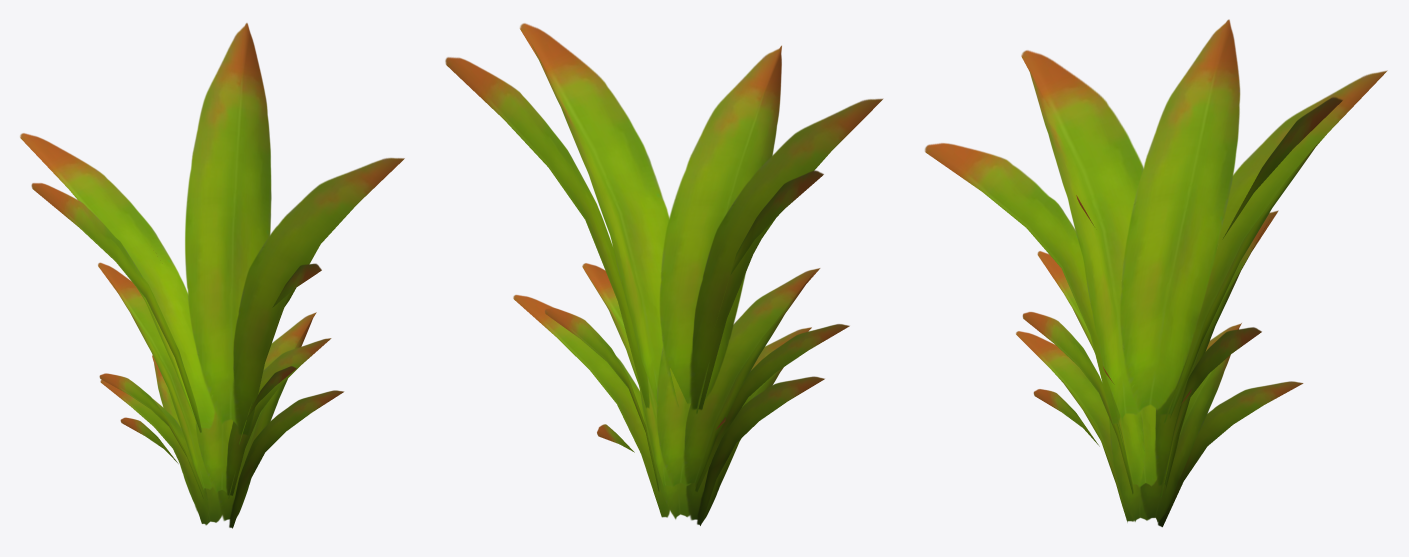
Rendered from plant-big-mbhbp7jrti-transformed.glb.
3 renders of one model, left to right at view 1: azimuth 30°, elevation 25°; view 2: azimuth 150°, elevation 25°; view 3: azimuth 270°, elevation 25°, orthographic. The views are drawn at different scales.
Parts seen in each view (by area): view 1: Plant_1_Big; view 2: Plant_1_Big; view 3: Plant_1_Big.
Part boxes in pixels (left/top/right/bottom): Plant_1_Big: left=20, top=23, right=404, bottom=528; Plant_1_Big: left=445, top=23, right=883, bottom=525; Plant_1_Big: left=924, top=19, right=1387, bottom=527.
Size of the model in its own units: 2.89 by 3.76 by 3.13.
1 material, 1 textured.
